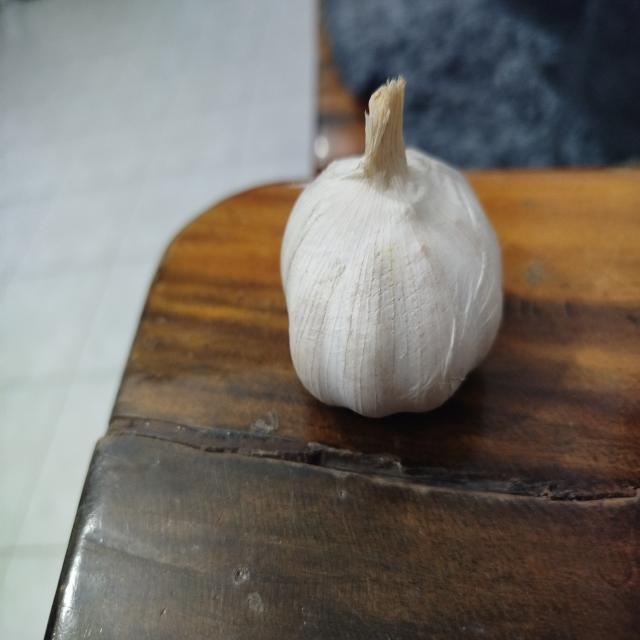garlic: (279, 75, 504, 418)
